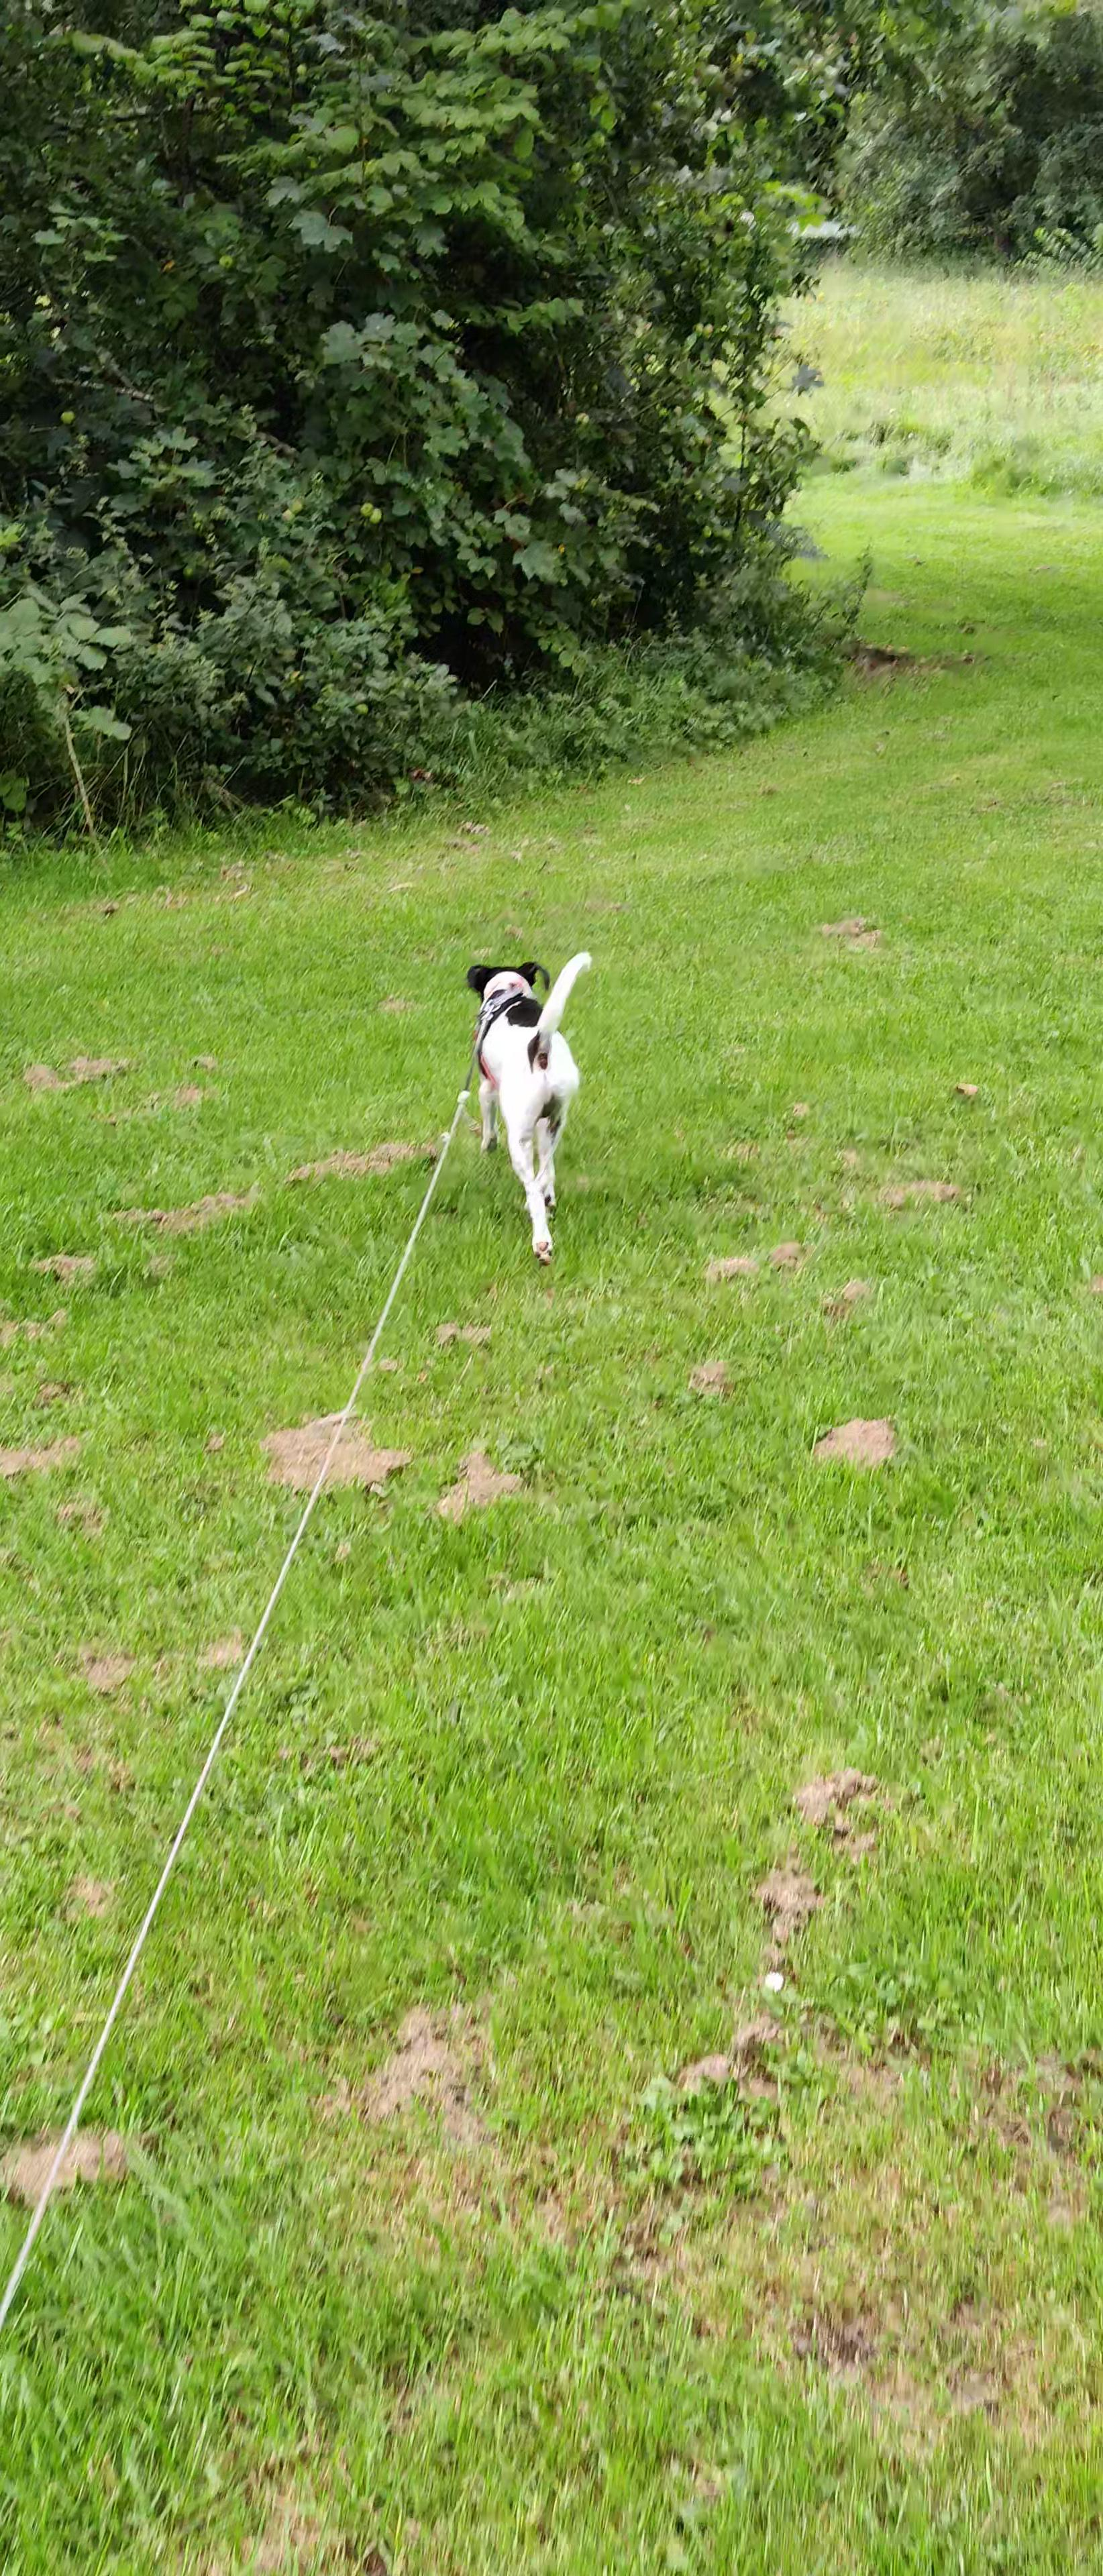Dog: (464, 945, 598, 1267)
